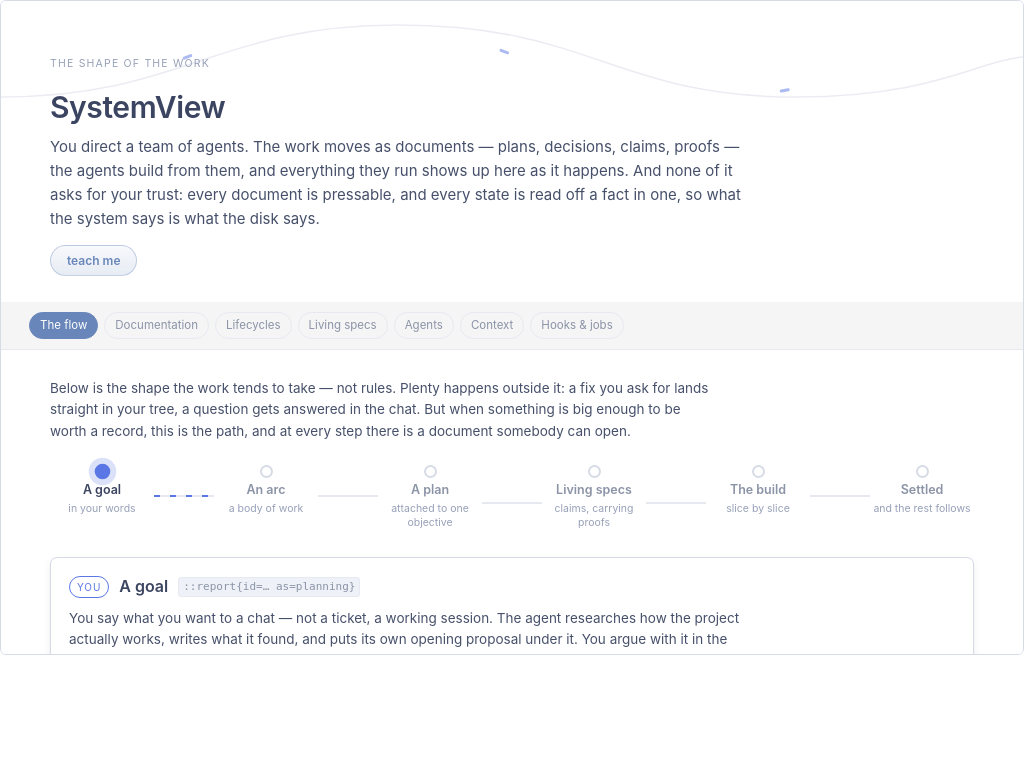
Test case: HowWeWork › the machine draws the fork — five stations, two labelled roads, a press answers
The width and height of the screenshot is (1024, 768).
Click the tab "Hooks & jobs": (577, 325) [530,312,624,338]
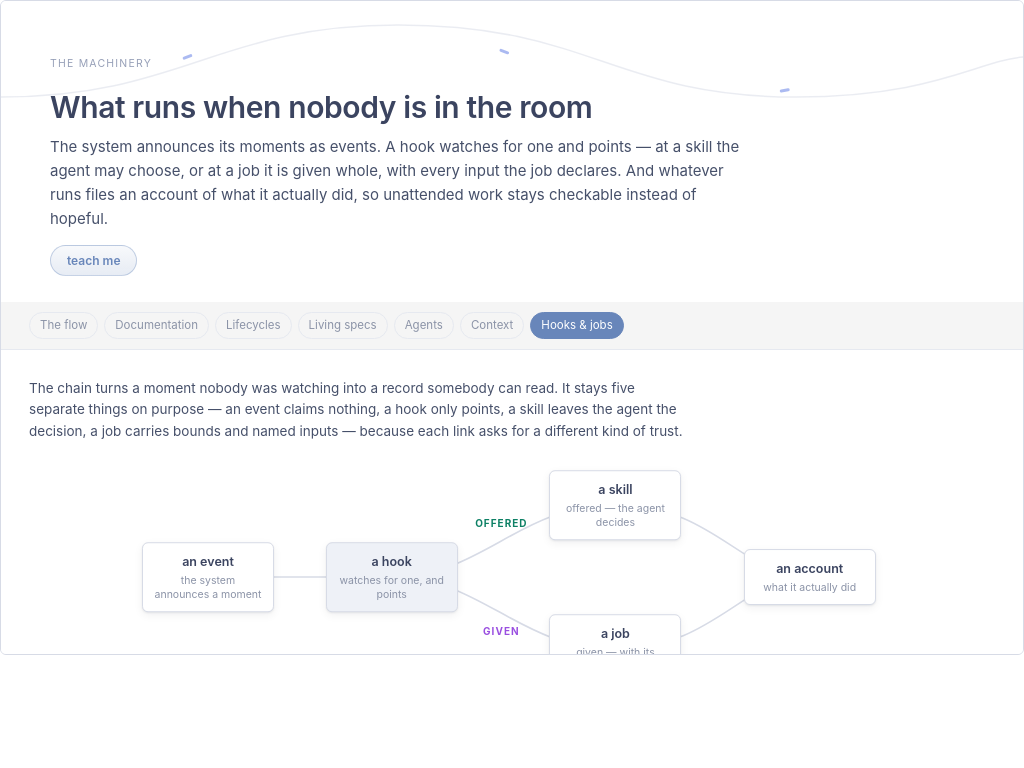
Check: the number of buttons with class "hww-chain__st" is 5
Check: the text "offered" is shown, box [475,515,528,531]
Check: the text "given" is shown, box [483,623,520,639]
Click the button "a job given — with its inputs": (615, 649) [549,614,681,684]
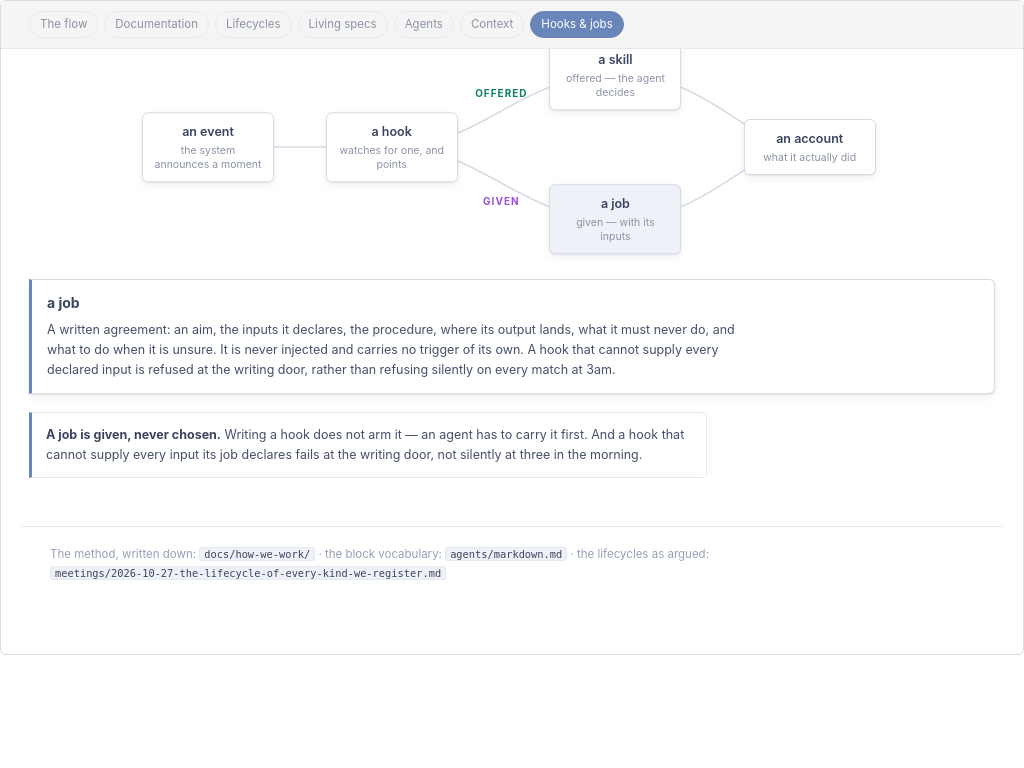
Check: the text "refused at the writing" is shown, box [47,322,735,377]
